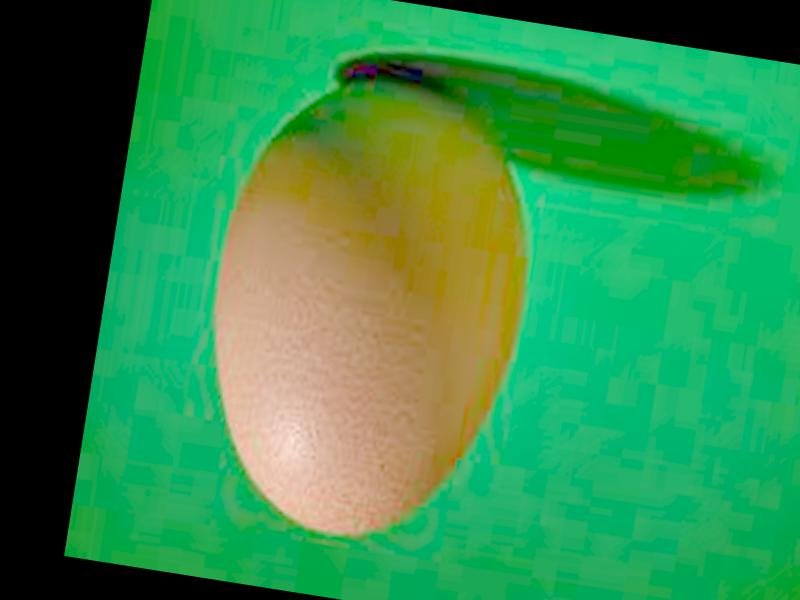Eggs: (181, 57, 554, 555)
